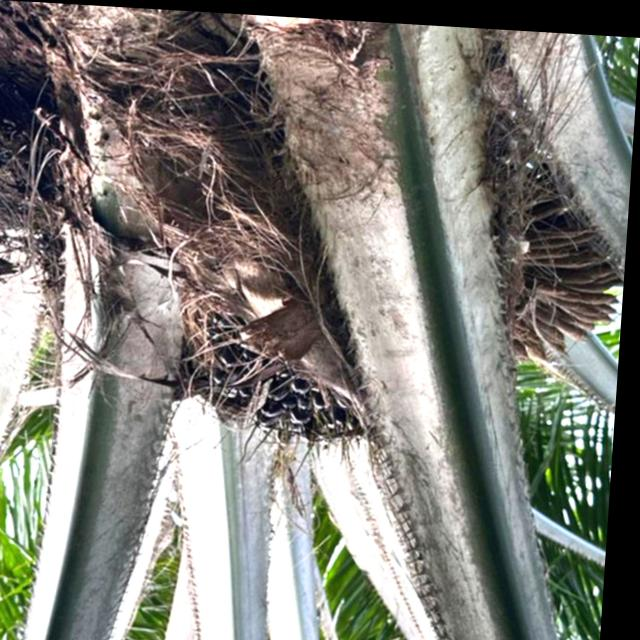almost: (171, 262, 379, 451)
